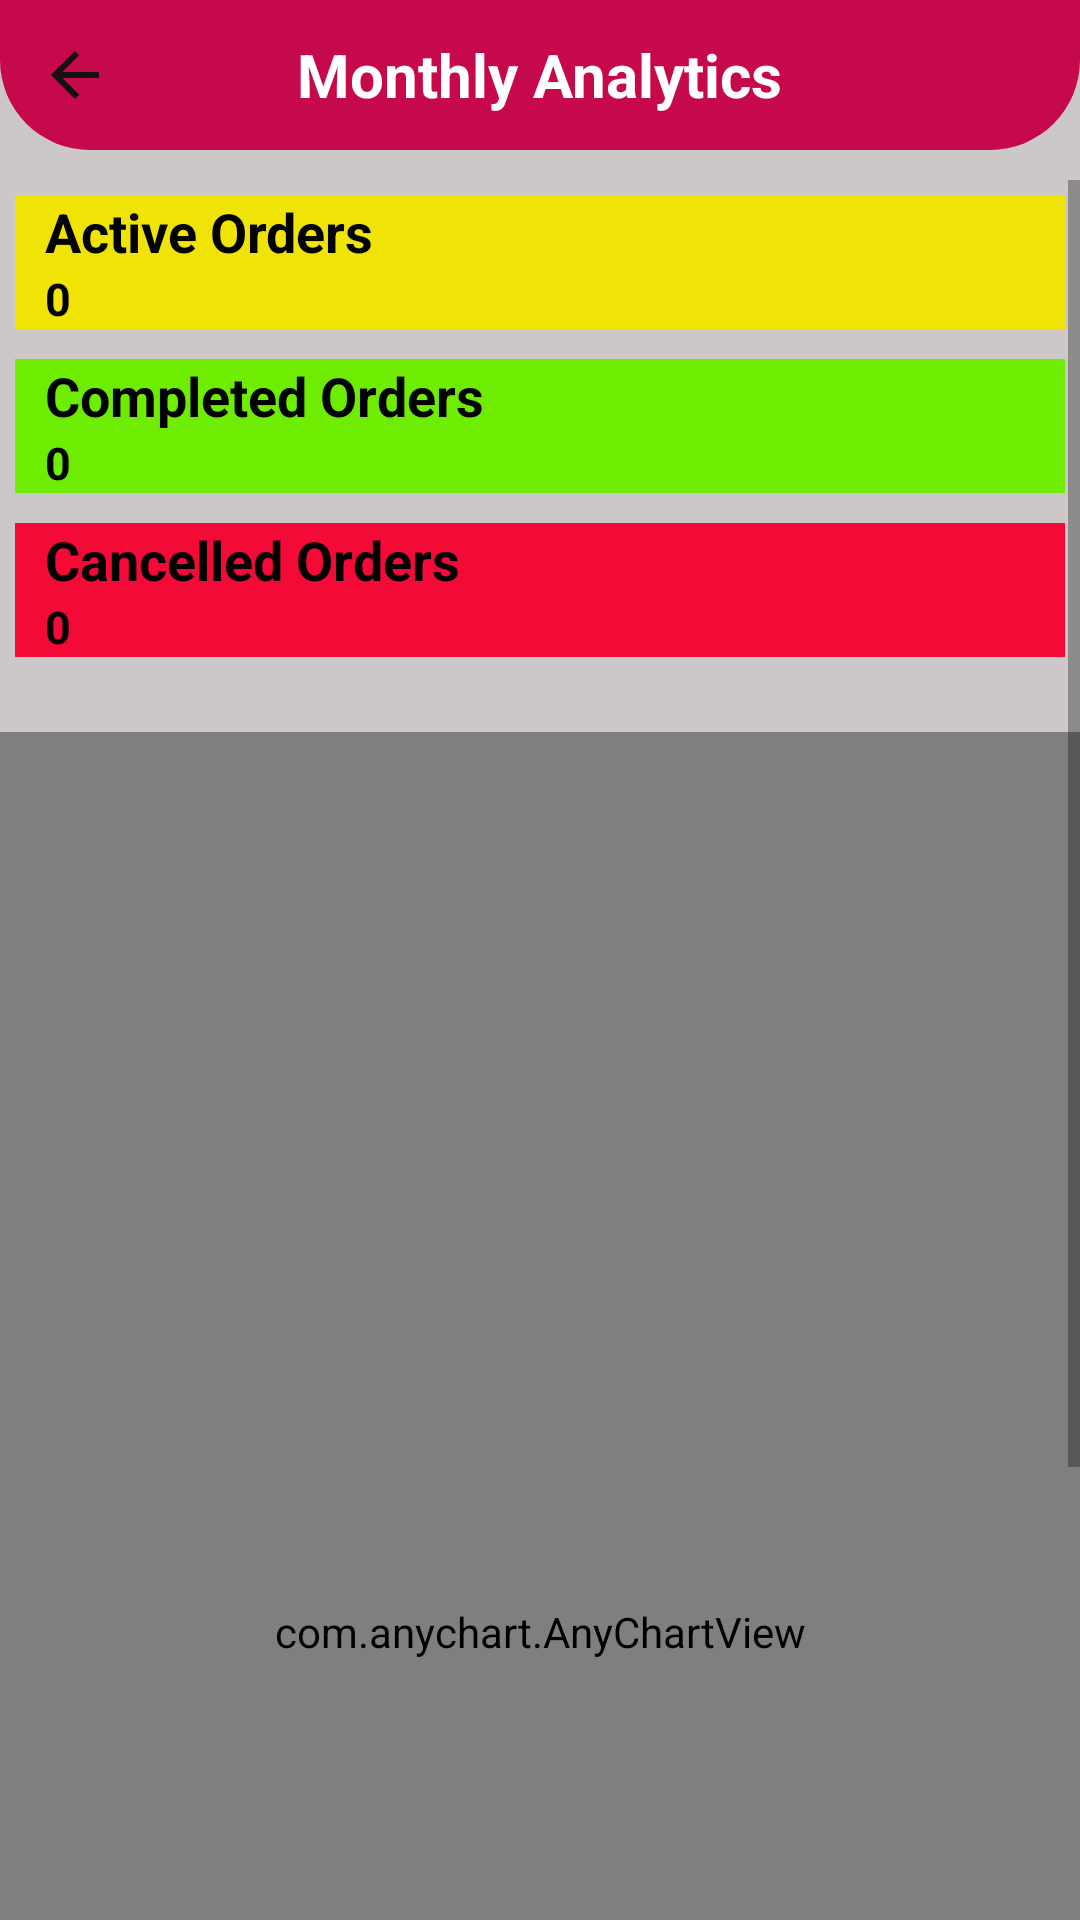

Named icons in this screenshot (1080x1920) and their bounding boxes, (x1, y1, x2, y2):
back: (51, 51, 99, 99)
